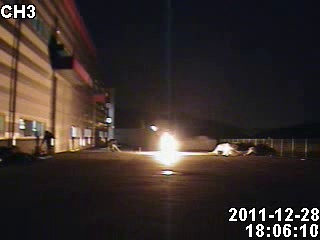fire: (154, 131, 179, 155)
